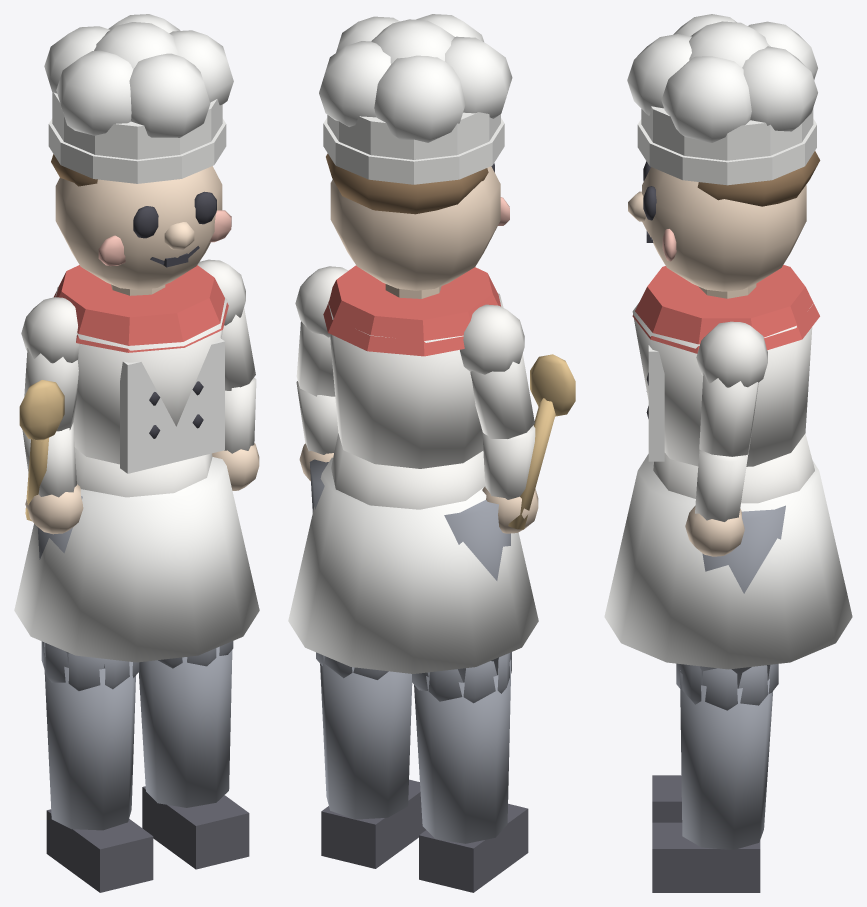
File: meeple_05_koch_stand.glb
The picture shows the model from 3 angles, left to right: view 1: azimuth 30°, elevation 25°; view 2: azimuth 150°, elevation 25°; view 3: azimuth 270°, elevation 25°; orthographic projection. The views are drawn at different scales.
Visible parts, largest first — view 1: meeple_05_koch_stand; view 2: meeple_05_koch_stand; view 3: meeple_05_koch_stand.
Part boxes in pixels (x1=…): meeple_05_koch_stand: x1=14, y1=14, x2=259, y2=892; meeple_05_koch_stand: x1=288, y1=14, x2=575, y2=892; meeple_05_koch_stand: x1=604, y1=14, x2=852, y2=892.
Bounding box in the file's own units: 0.5566 × 1.73 × 0.4704.
